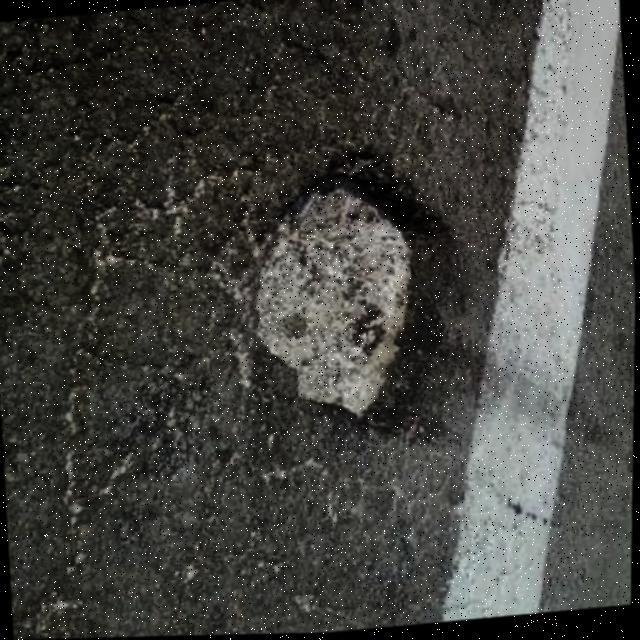pothole: (238, 142, 468, 444)
